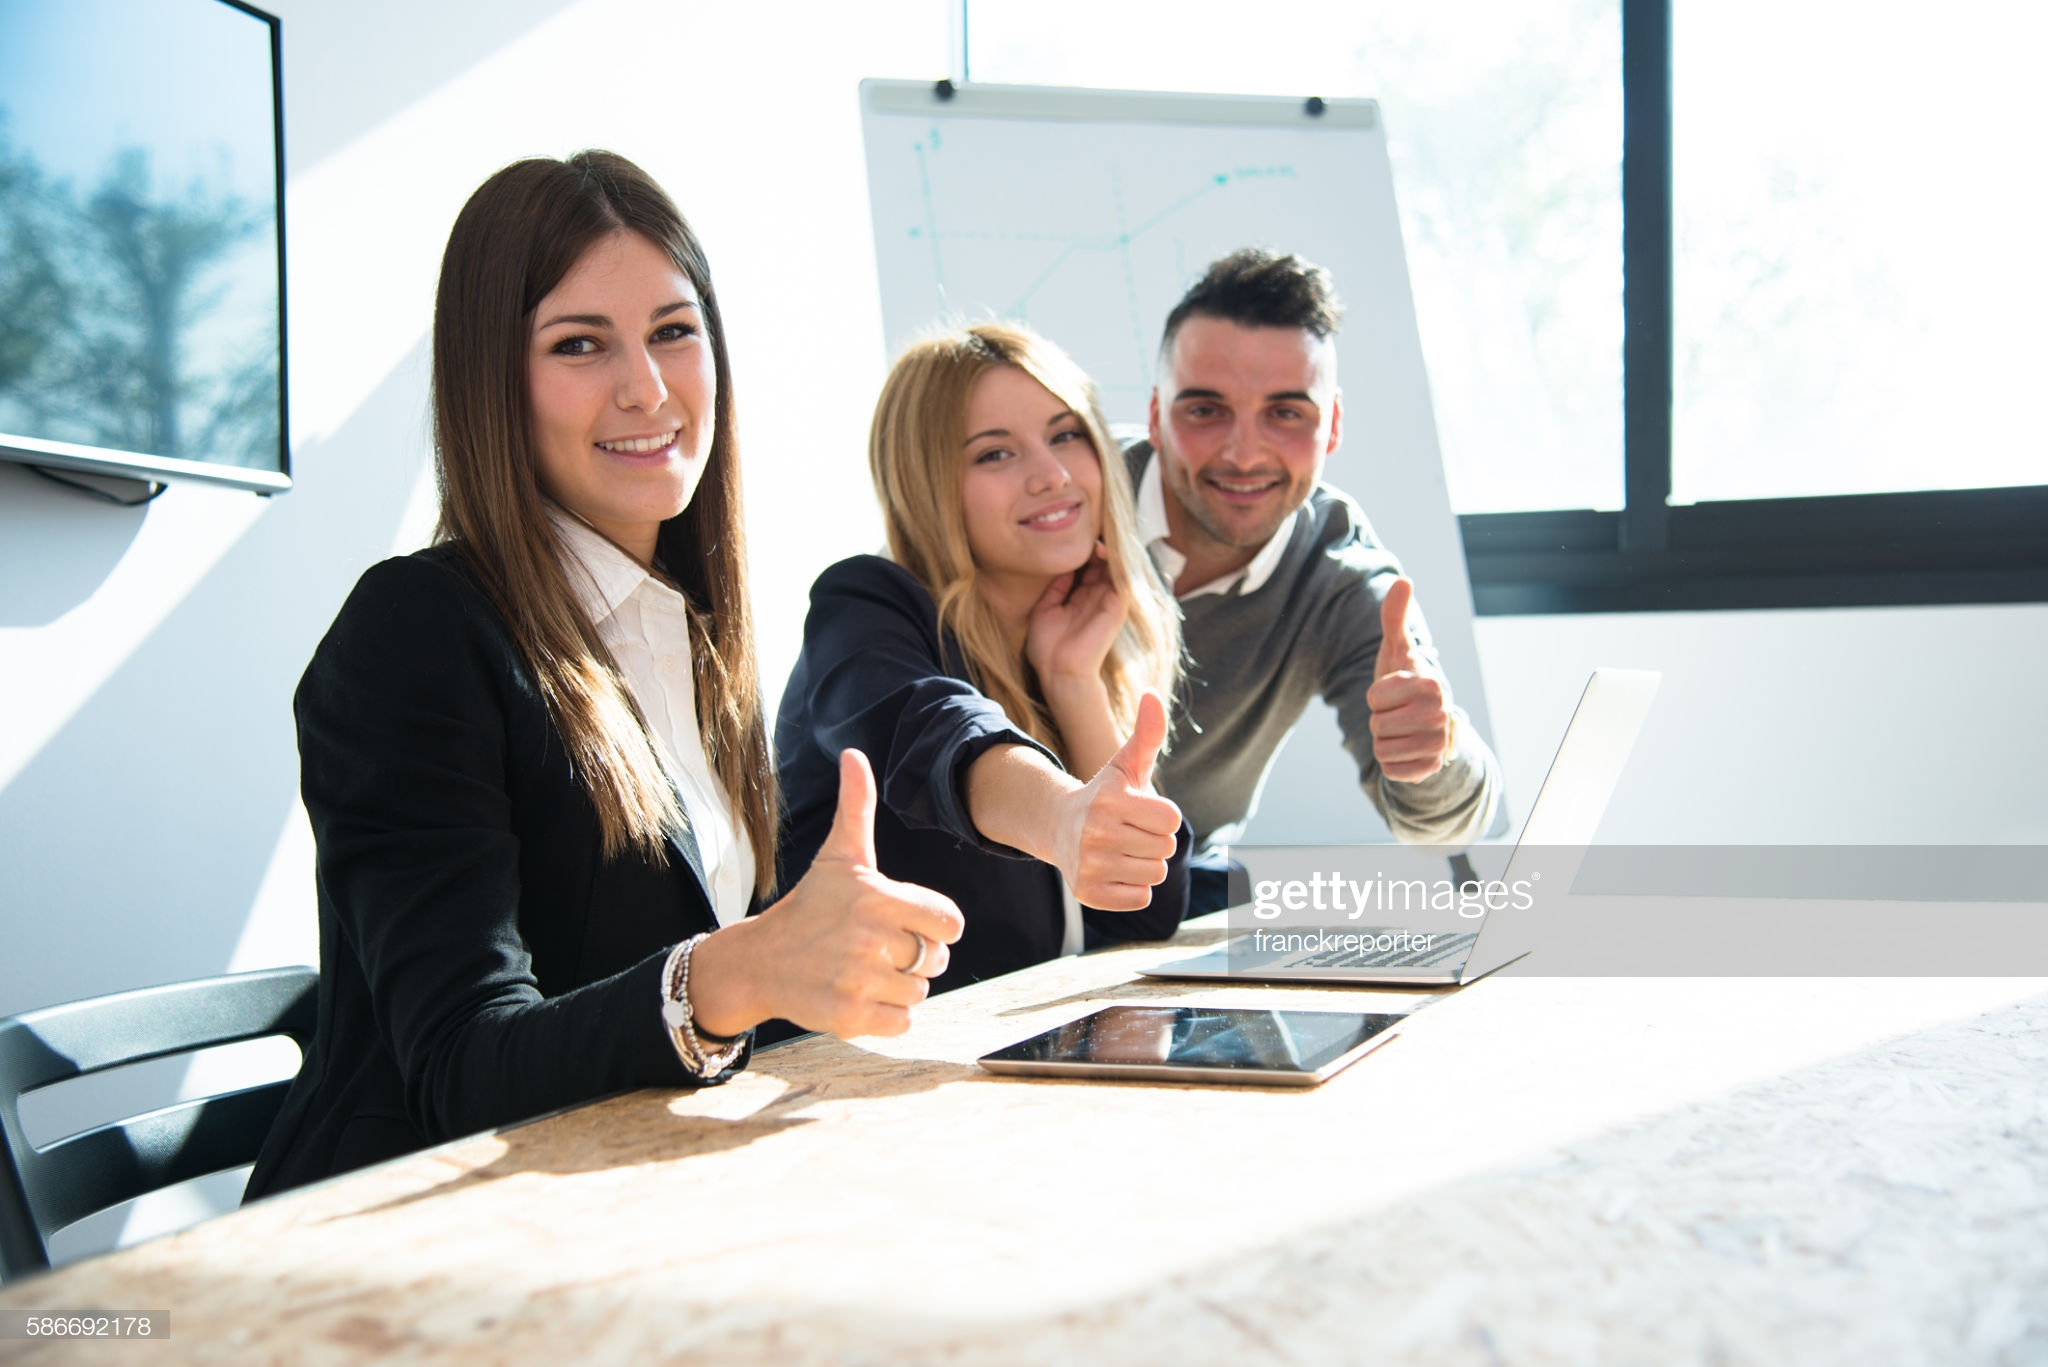thumbsup: (801, 745, 965, 1039), (1069, 691, 1183, 912), (1366, 577, 1447, 783)
